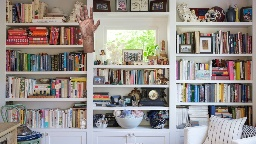Mano_aperta: (73, 4, 101, 39)
